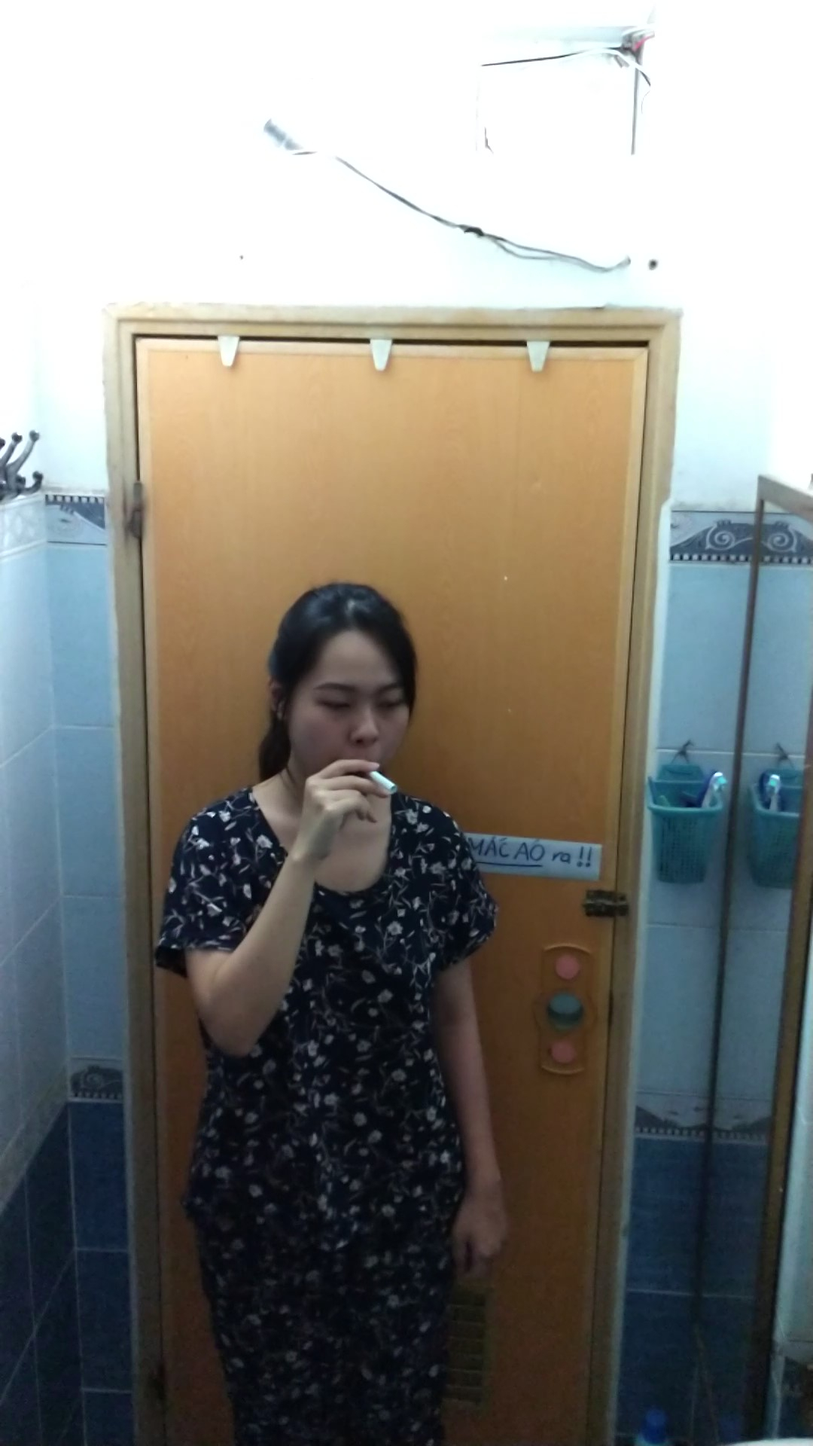cigarette: (365, 766, 401, 801)
person: (153, 572, 518, 1446)
